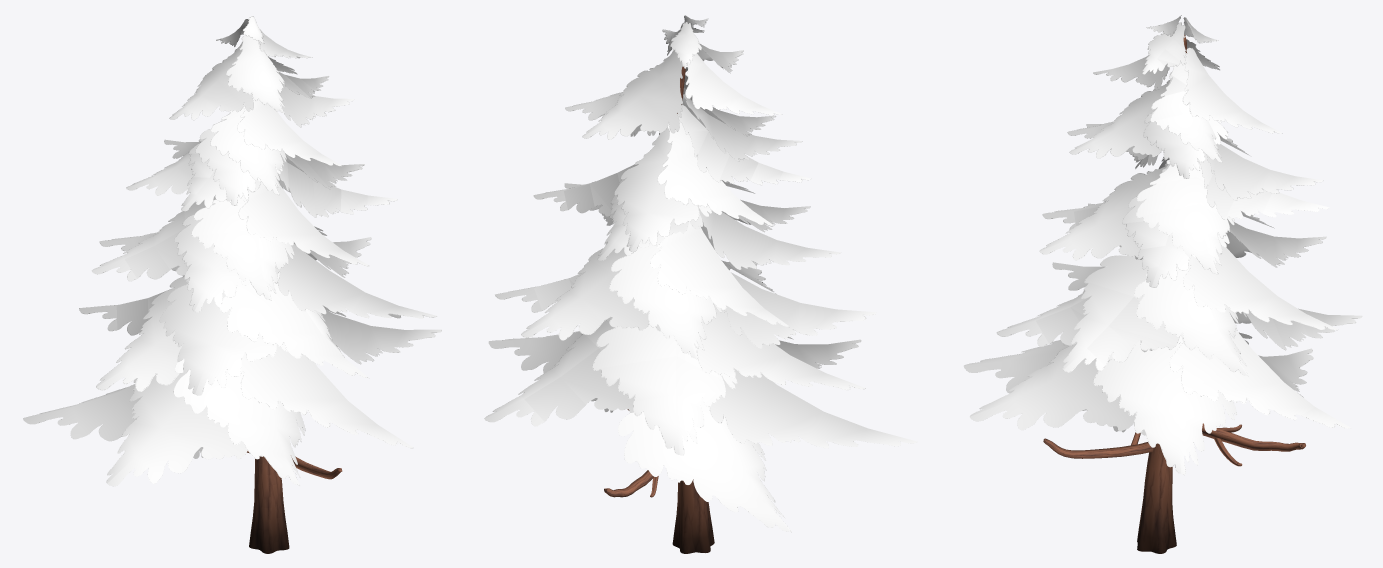
Rendered from Pine_2.gltf.
The picture shows the model from 3 angles, left to right: view 1: azimuth 30°, elevation 25°; view 2: azimuth 150°, elevation 25°; view 3: azimuth 270°, elevation 25°; orthographic projection. The views are drawn at different scales.
Parts seen in each view (by area): view 1: Pine_2; view 2: Pine_2; view 3: Pine_2.
Part boxes in pixels (box(x1,y1,x2,y2)): Pine_2: box(23, 16, 441, 553); Pine_2: box(484, 15, 917, 553); Pine_2: box(963, 15, 1362, 553).
Size of the model in its own units: 5.73 by 7.38 by 5.22.
2 materials, 2 textured.
